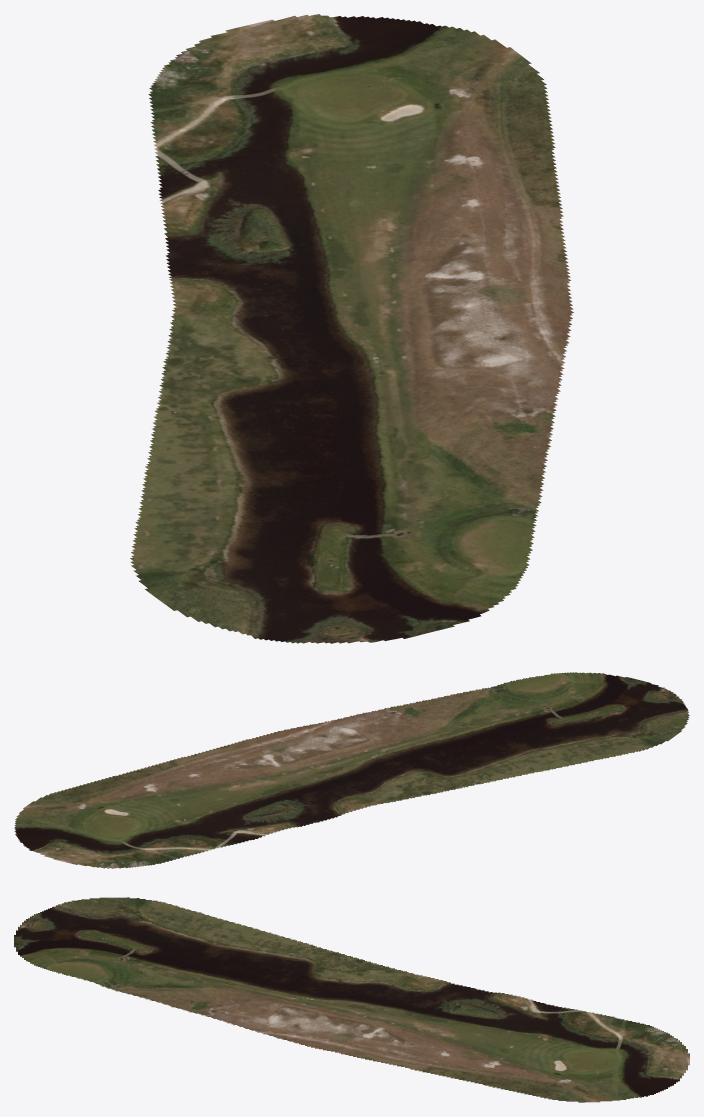
File: flommen_11.glb
3 views of the same model, one above another, from view 1: azimuth 30°, elevation 25°; view 2: azimuth 150°, elevation 25°; view 3: azimuth 270°, elevation 25° (orthographic). The views are drawn at different scales.
Visible parts, largest first — view 1: ground; view 2: ground; view 3: ground.
Boxes of the visible parts, bbox=[...] form: ground: bbox=[130, 14, 573, 643]; ground: bbox=[14, 672, 689, 868]; ground: bbox=[14, 897, 689, 1102].
Size of the model in its own units: 244 by 2.49 by 339.
1 material, 1 textured.
